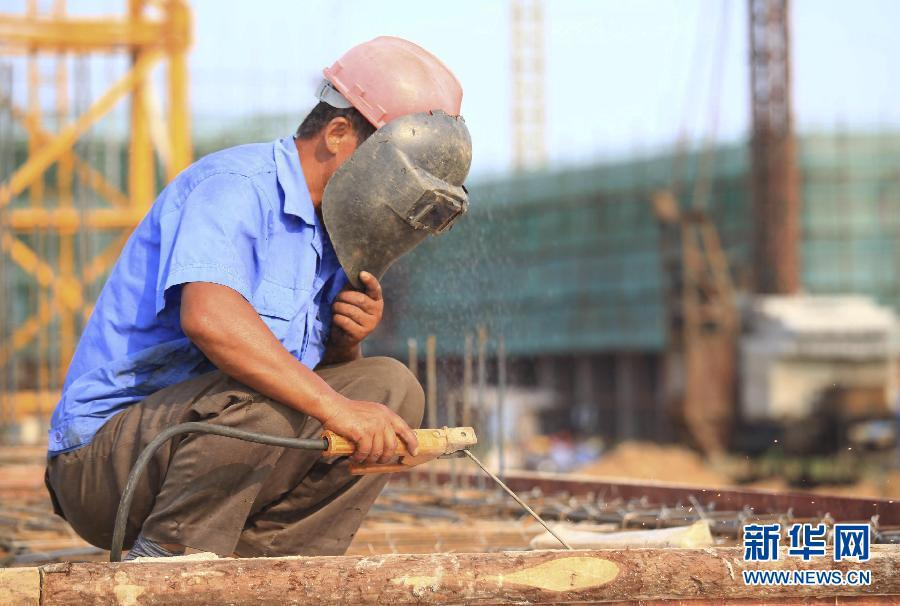helmet: (296, 24, 473, 209)
